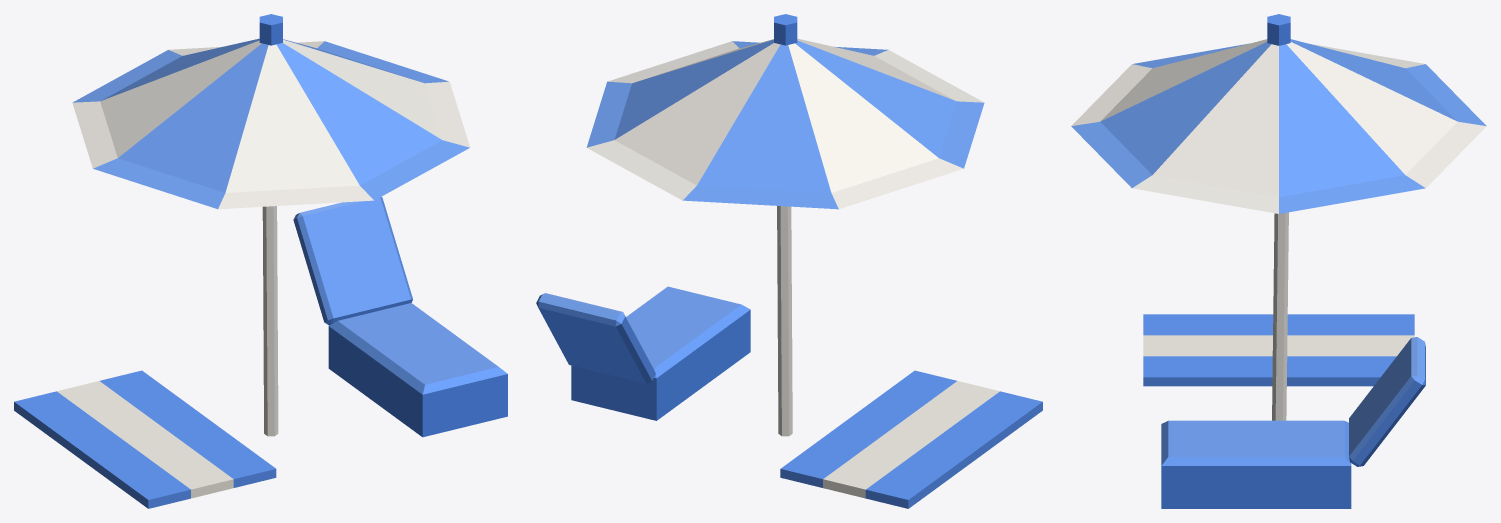
File: BeachUmbrella_4.glb
3 views of the same model, side by side, from view 1: azimuth 30°, elevation 25°; view 2: azimuth 150°, elevation 25°; view 3: azimuth 270°, elevation 25° (orthographic).
Visible parts, largest first — view 1: BeachUmbrella_4; view 2: BeachUmbrella_4; view 3: BeachUmbrella_4.
Part boxes in pixels (x1,y1,x2,y2): BeachUmbrella_4: (14, 14, 507, 508); BeachUmbrella_4: (536, 14, 1042, 508); BeachUmbrella_4: (1071, 14, 1486, 508).
Size of the model in its own units: 9.5 by 10.2 by 9.2.
Materials: 1 (1 with a texture image).
